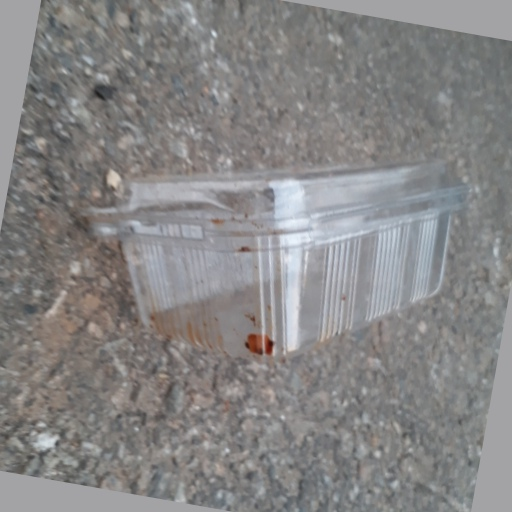Plastic_4: (85, 157, 469, 357)
